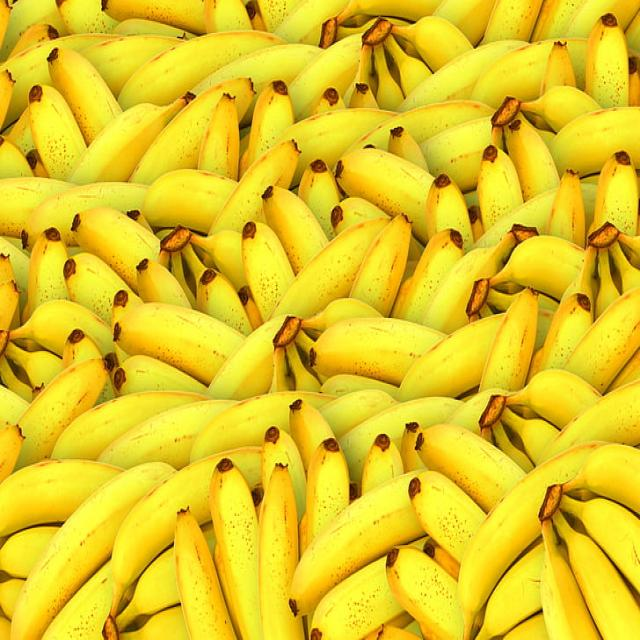Banana: (10, 462, 175, 640), (458, 443, 604, 637), (111, 448, 261, 614), (289, 470, 424, 615), (130, 77, 254, 183), (118, 30, 281, 110), (420, 225, 536, 333), (269, 220, 390, 318), (554, 510, 640, 640), (68, 94, 192, 184), (114, 302, 245, 385), (51, 390, 206, 460), (15, 356, 106, 468), (190, 392, 330, 461), (416, 424, 525, 511), (210, 458, 262, 639), (99, 400, 235, 469), (336, 148, 434, 243), (0, 460, 121, 536), (399, 313, 502, 402), (275, 109, 395, 185), (309, 317, 445, 384), (209, 139, 300, 234), (539, 380, 640, 463), (174, 508, 236, 640), (345, 99, 495, 153), (258, 463, 304, 639), (564, 287, 640, 392), (311, 555, 404, 640), (562, 496, 640, 592), (71, 208, 160, 292), (386, 546, 464, 640), (540, 518, 600, 639), (48, 49, 122, 144), (409, 471, 485, 562), (391, 229, 464, 322), (206, 315, 285, 400), (192, 43, 321, 95), (476, 542, 542, 639), (549, 107, 640, 177), (141, 169, 237, 234), (350, 214, 411, 316), (289, 35, 361, 119), (479, 289, 538, 391), (490, 236, 585, 299), (9, 300, 114, 356), (299, 437, 349, 554), (262, 186, 329, 273), (471, 40, 555, 108), (528, 293, 592, 380), (28, 84, 86, 179), (420, 116, 491, 193), (241, 221, 295, 320), (562, 445, 640, 513), (504, 113, 560, 200), (64, 253, 131, 324), (248, 81, 295, 166), (478, 144, 524, 230), (198, 94, 238, 179), (566, 38, 588, 89)
